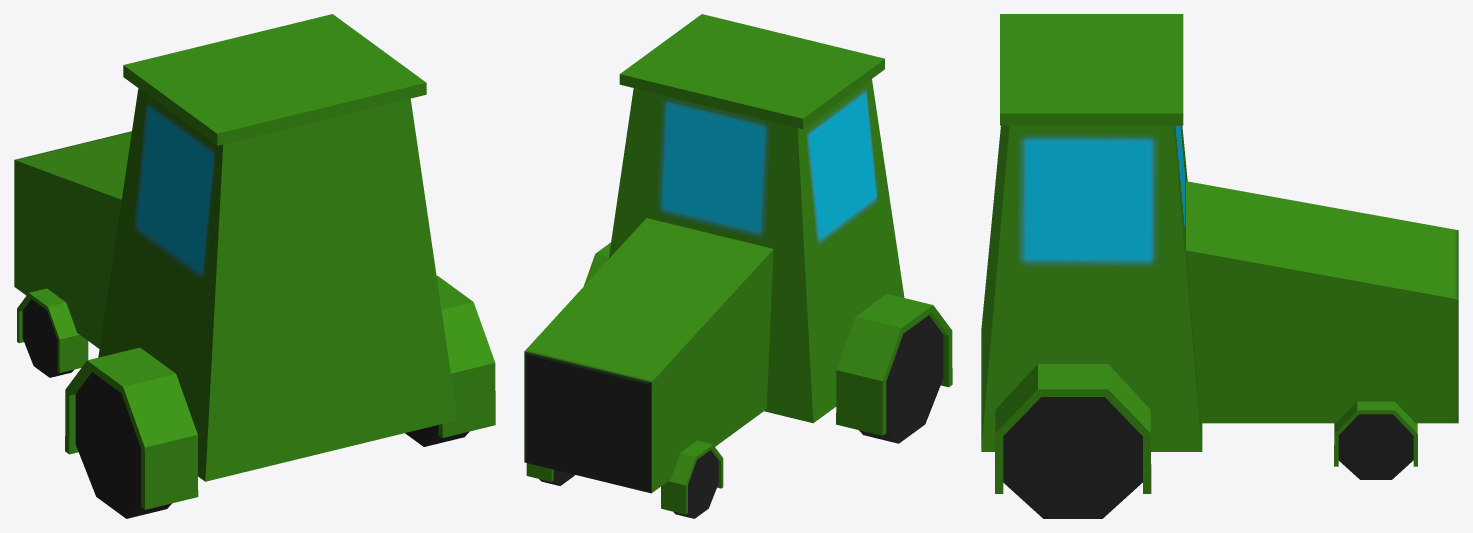
The model's file is Tractor.glb.
3 renders of one model, left to right at view 1: azimuth 30°, elevation 25°; view 2: azimuth 150°, elevation 25°; view 3: azimuth 270°, elevation 25°, orthographic. The views are drawn at different scales.
Visible parts, largest first — view 1: Tractor; view 2: Tractor; view 3: Tractor.
Part boxes in pixels (box(x1,y1,x2,y2)): Tractor: box(14, 14, 495, 518); Tractor: box(524, 14, 952, 518); Tractor: box(981, 14, 1458, 518).
Size of what is drawn, in the model's own units: 1.65 by 1.73 by 1.99.
Materials: 1 (1 with a texture image).
